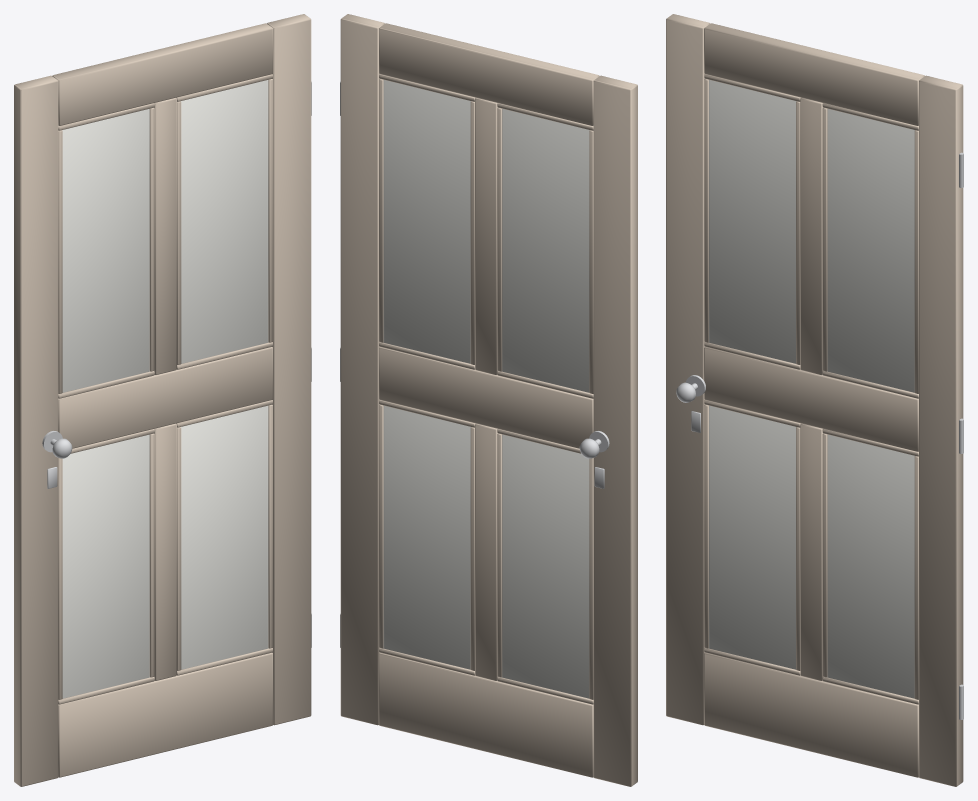
Rendered from MizunoApart_Door.fbx.
The picture shows the model from 3 angles, left to right: view 1: azimuth 30°, elevation 25°; view 2: azimuth 150°, elevation 25°; view 3: azimuth 330°, elevation 25°; orthographic projection.
Parts seen in each view (by area): view 1: MizunoApart_Door; view 2: MizunoApart_Door; view 3: MizunoApart_Door.
Boxes of the visible parts, x1=… form: MizunoApart_Door: x1=14, y1=14, x2=311, y2=786; MizunoApart_Door: x1=340, y1=14, x2=637, y2=786; MizunoApart_Door: x1=666, y1=14, x2=963, y2=786.
Size of the model in its own units: 0.927 by 2.1 by 0.198.
